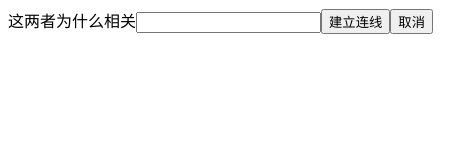
Test: GraphEdgeDraft（连线 + 强制假设） › 空假设不发请求：提交被拦在本地
Click the button with test id "graph-edge-submit".
click(356, 22)  # box [321,9,390,34]
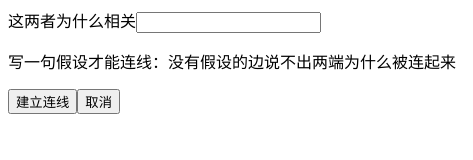
Expected: the text "写一句假设才能连线：没有假设的边说不出两端为什么被连起来" is shown, [8,54,456,71]
